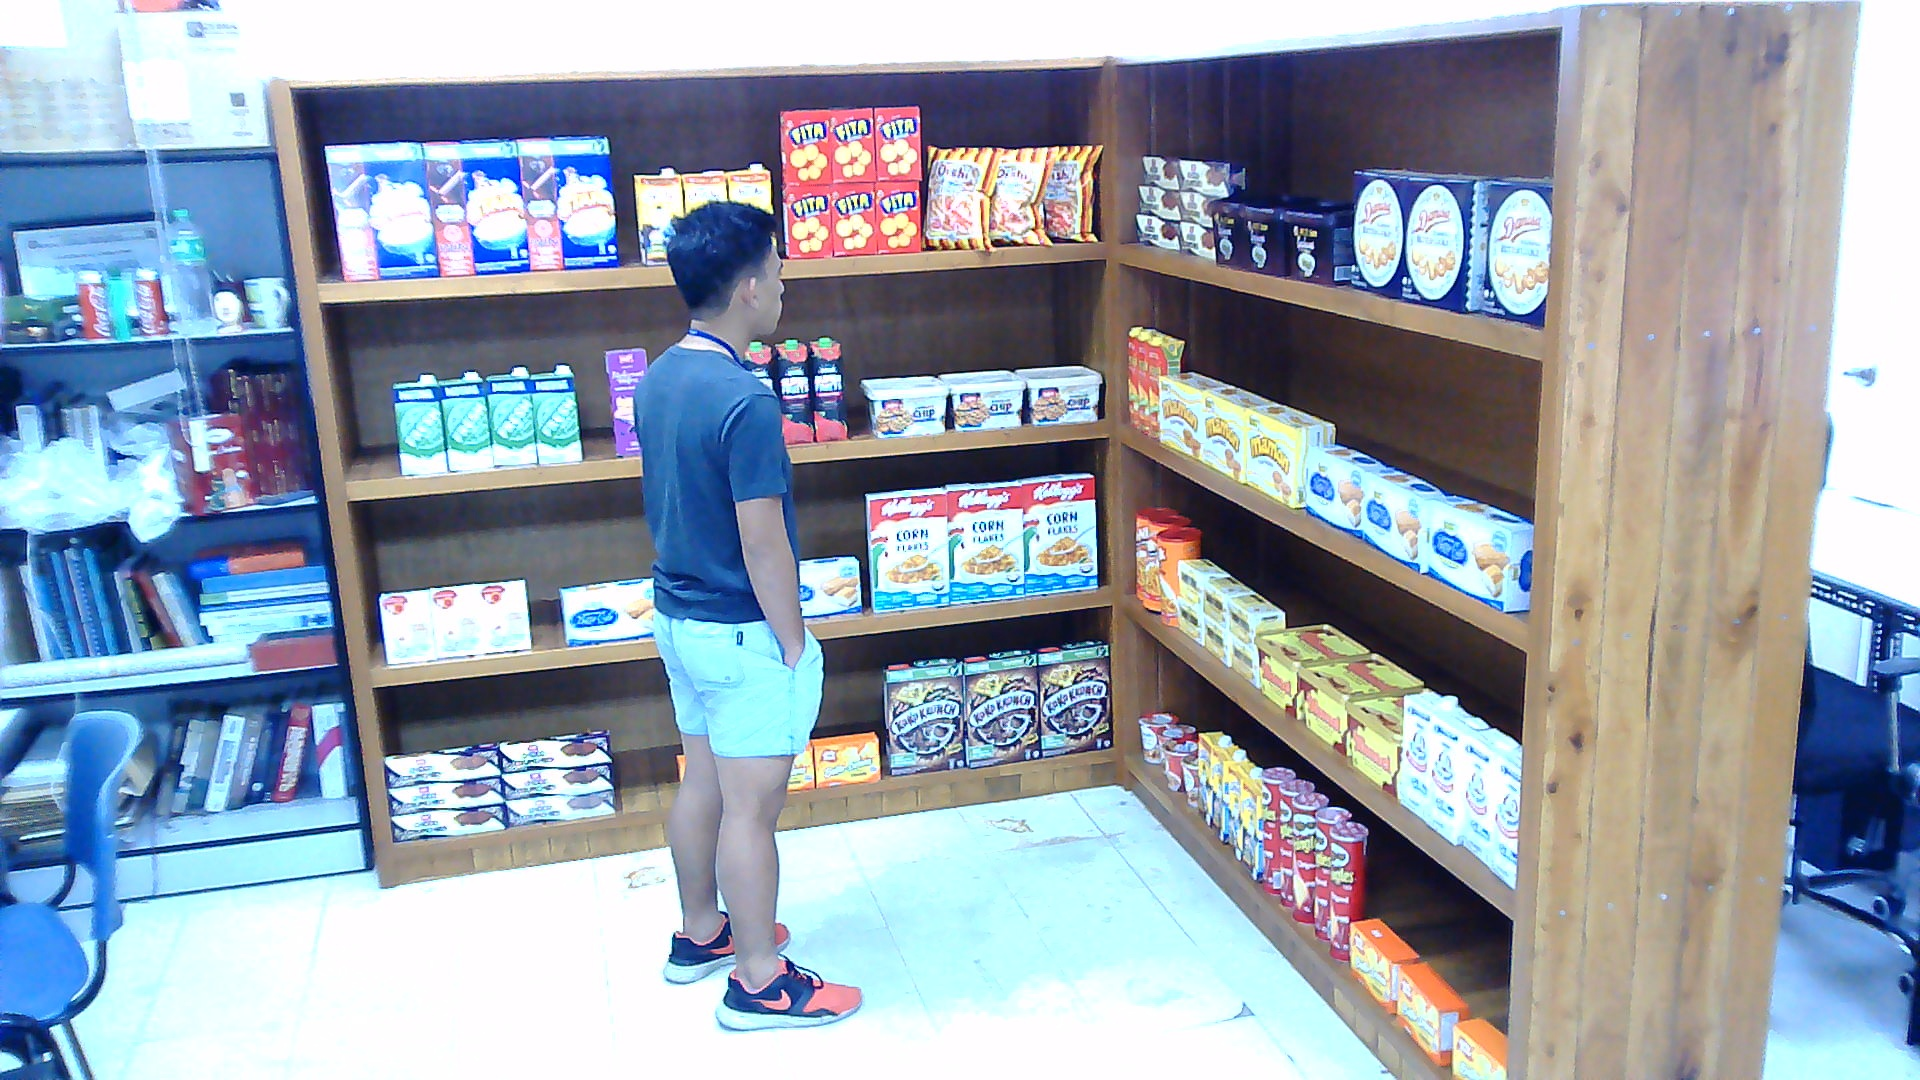Bear brand: (1422, 706, 1488, 846), (1460, 726, 1517, 866), (1398, 691, 1458, 819), (1491, 745, 1521, 891)
Buttercake: (1428, 492, 1533, 611), (1362, 466, 1452, 574), (1305, 444, 1389, 538), (558, 576, 654, 646), (797, 555, 860, 616)
Butterlicious: (1395, 961, 1470, 1067), (1350, 917, 1419, 1014), (810, 731, 879, 787), (1452, 1016, 1509, 1077), (785, 740, 812, 792)
Camomille: (1226, 592, 1283, 648), (1203, 574, 1254, 628), (1175, 558, 1226, 610), (1175, 594, 1202, 646), (1229, 637, 1256, 686), (1203, 614, 1227, 666)
Choco Crunchies: (384, 742, 501, 787), (384, 773, 504, 816), (498, 728, 612, 771), (390, 803, 507, 841), (503, 790, 614, 826), (501, 765, 612, 799), (1178, 158, 1247, 194), (1134, 214, 1179, 250), (1179, 191, 1221, 225), (1179, 223, 1215, 259), (1137, 184, 1176, 216), (1140, 155, 1176, 189)
Chocolate Chips: (861, 373, 948, 438), (939, 368, 1026, 429), (1013, 364, 1100, 423)
Chuckie: (633, 166, 681, 265), (1209, 742, 1245, 841), (1226, 758, 1259, 857), (1196, 731, 1229, 825), (1236, 774, 1260, 882), (729, 162, 771, 216), (680, 170, 725, 213)
Danisa: (1401, 173, 1485, 313), (1350, 167, 1431, 297), (1482, 180, 1551, 326)
Fita: (779, 108, 830, 182), (779, 185, 830, 257), (828, 106, 876, 182), (873, 106, 921, 178), (830, 182, 875, 254), (876, 180, 921, 252)
Fresh Milk: (390, 371, 447, 474), (438, 369, 492, 470), (528, 364, 582, 463), (483, 366, 537, 463)
Grahams: (1239, 195, 1329, 274), (1209, 188, 1293, 267), (1280, 202, 1349, 283)
Hansel: (1296, 652, 1422, 755), (1250, 623, 1367, 720), (1344, 688, 1401, 796)
Head: (656, 195, 785, 348)
Honey Stars: (320, 141, 437, 278), (420, 137, 528, 277), (516, 134, 618, 267)
Kellogg Corn Flakes: (864, 486, 948, 612), (1016, 472, 1097, 596), (945, 479, 1023, 603)
Kimchi Noodles: (1137, 711, 1179, 765), (1157, 736, 1196, 792), (1179, 754, 1197, 808), (1155, 722, 1194, 742)
Koko Krunch: (957, 648, 1041, 767), (1029, 638, 1113, 755), (882, 657, 963, 774)
Locally Mango: (1145, 335, 1184, 438), (1137, 330, 1164, 431), (1125, 326, 1143, 425)
Mamon: (1248, 403, 1332, 509), (1203, 384, 1278, 481), (1158, 371, 1227, 459)
Oishi Prawn: (921, 142, 1005, 252), (990, 144, 1056, 247), (1038, 144, 1104, 243)
Pik-nik: (1143, 512, 1191, 611), (1154, 526, 1199, 625), (1134, 504, 1179, 598)
Pringles: (1329, 821, 1368, 961), (1289, 789, 1328, 922), (1313, 805, 1352, 940), (1260, 765, 1296, 895), (1278, 779, 1314, 907)
Super Fruits: (807, 335, 849, 441), (771, 337, 813, 440), (741, 339, 771, 388)
Wafer: (602, 347, 647, 457)
iHop: (378, 588, 435, 664), (474, 578, 531, 652), (429, 583, 480, 657)
